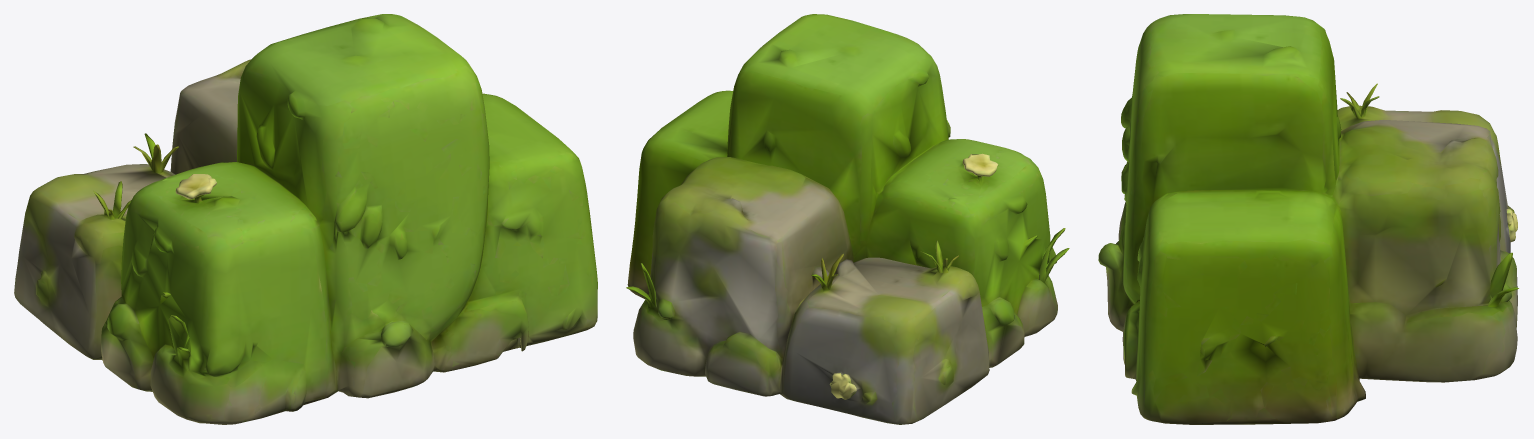
The picture shows the model from 3 angles, left to right: view 1: azimuth 30°, elevation 25°; view 2: azimuth 150°, elevation 25°; view 3: azimuth 270°, elevation 25°; orthographic projection. The views are drawn at different scales.
Visible parts, largest first — view 1: world; view 2: world; view 3: world.
Boxes of the visible parts, x1=… form: world: x1=14, y1=14, x2=597, y2=424; world: x1=626, y1=14, x2=1069, y2=424; world: x1=1098, y1=14, x2=1518, y2=424.
Size of the model in its own units: 1 by 0.6676 by 0.8555.
Materials: 1 (1 with a texture image).
